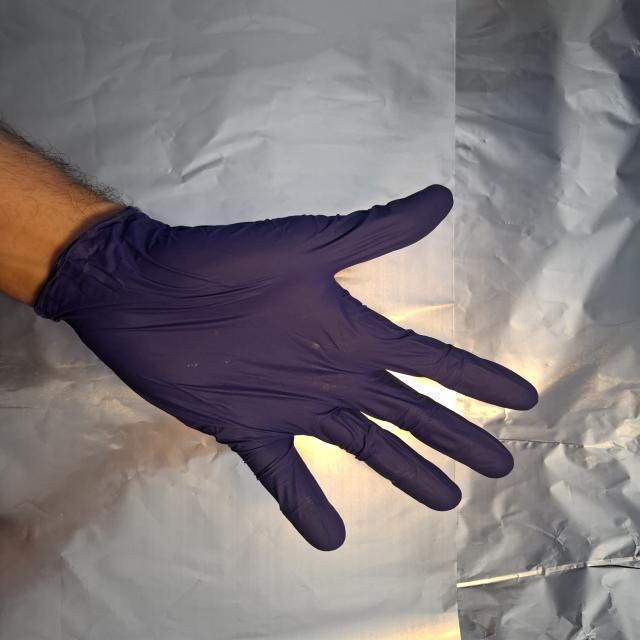glove_on: (35, 179, 544, 556)
